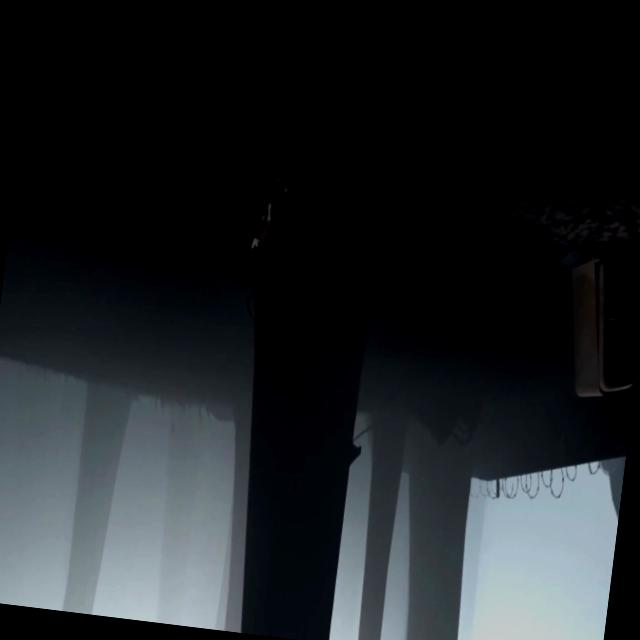boy: (250, 172, 288, 260)
